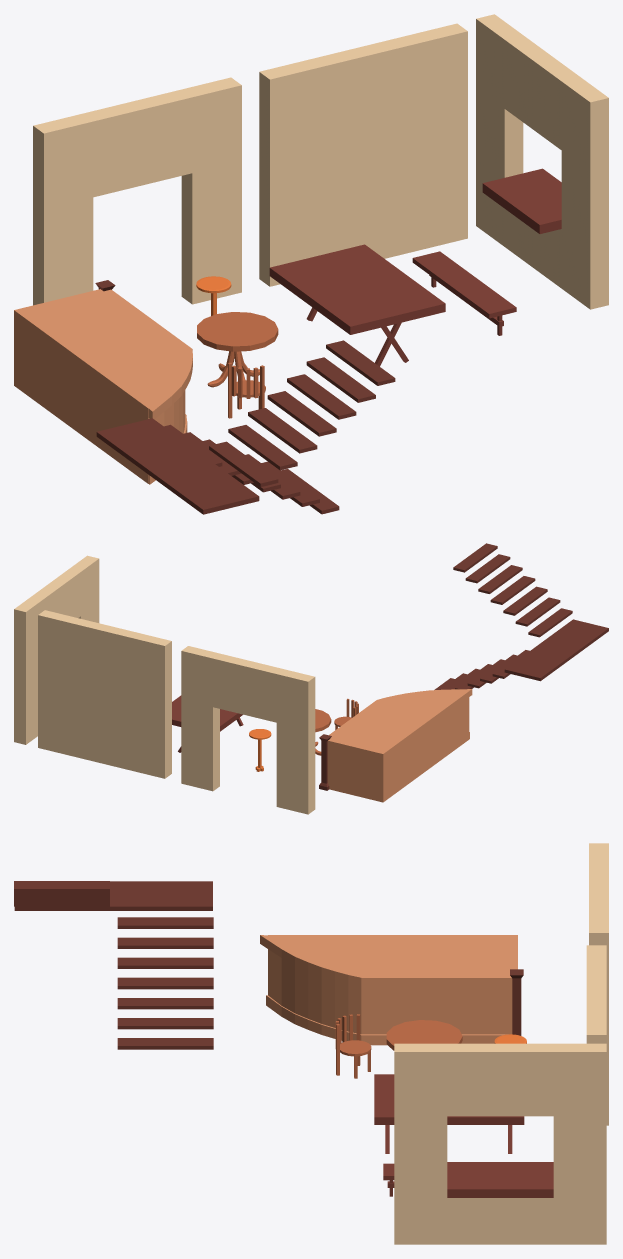
Rendered from Bar_Assets_Forward.fbx.
3 renders of one model, top to bottom at view 1: azimuth 30°, elevation 25°; view 2: azimuth 150°, elevation 25°; view 3: azimuth 270°, elevation 25°, orthographic. The views are drawn at different scales.
Parts seen in each view (by area): view 1: Wall.001, Door_Wall.001, Wall_Window.001, Bar_Counter.001, Table.004, Stairs_Up.003, Stairs_Middle.003, Bar_Edge.001, Round_Table.001, Seat.004, Stairs_Down.003, Chair.010; view 2: Wall.001, Door_Wall.001, Bar_Counter.001, Wall_Window.001, Stairs_Up.003, Bar_Edge.001, Stairs_Middle.003, Stairs_Down.003, Table.004, Bar_Column.001; view 3: Wall_Window.001, Bar_Counter.001, Bar_Edge.001, Stairs_Down.003, Stairs_Middle.003, Door_Wall.001, Stairs_Up.003, Wall.001, Table.004, Round_Table.001, Chair.010, Bar_Column.001.
Part boxes in pixels (x1=…): Wall.001: x1=259, y1=23, x2=467, y2=286; Door_Wall.001: x1=33, y1=77, x2=241, y2=305; Wall_Window.001: x1=476, y1=14, x2=608, y2=309; Bar_Counter.001: x1=14, y1=289, x2=192, y2=446; Table.004: x1=269, y1=244, x2=445, y2=366; Stairs_Up.003: x1=209, y1=340, x2=395, y2=487; Stairs_Middle.003: x1=96, y1=418, x2=259, y2=514; Bar_Edge.001: x1=98, y1=349, x2=192, y2=484; Round_Table.001: x1=197, y1=312, x2=278, y2=387; Seat.004: x1=412, y1=251, x2=516, y2=335; Stairs_Down.003: x1=164, y1=424, x2=339, y2=514; Chair.010: x1=228, y1=362, x2=265, y2=418; Wall.001: x1=38, y1=610, x2=171, y2=778; Door_Wall.001: x1=181, y1=646, x2=315, y2=814; Bar_Counter.001: x1=327, y1=700, x2=437, y2=802; Wall_Window.001: x1=14, y1=555, x2=99, y2=744; Stairs_Up.003: x1=453, y1=543, x2=572, y2=637; Bar_Edge.001: x1=377, y1=689, x2=472, y2=762; Stairs_Middle.003: x1=504, y1=619, x2=608, y2=681; Stairs_Down.003: x1=434, y1=650, x2=529, y2=689; Table.004: x1=172, y1=695, x2=243, y2=752; Bar_Column.001: x1=319, y1=734, x2=331, y2=790; Wall_Window.001: x1=394, y1=1043, x2=606, y2=1244; Bar_Counter.001: x1=361, y1=935, x2=517, y2=1045; Bar_Edge.001: x1=260, y1=935, x2=361, y2=1040; Stairs_Down.003: x1=117, y1=917, x2=213, y2=1049; Stairs_Middle.003: x1=14, y1=881, x2=212, y2=910; Door_Wall.001: x1=589, y1=843, x2=608, y2=1125; Stairs_Up.003: x1=14, y1=881, x2=109, y2=906; Wall.001: x1=586, y1=945, x2=606, y2=1043; Table.004: x1=374, y1=1074, x2=524, y2=1153; Round_Table.001: x1=386, y1=1020, x2=462, y2=1050; Chair.010: x1=335, y1=1014, x2=371, y2=1078; Bar_Column.001: x1=510, y1=969, x2=523, y2=1035.
Bounding box in the file's own units: 1098 × 967 × 351.
